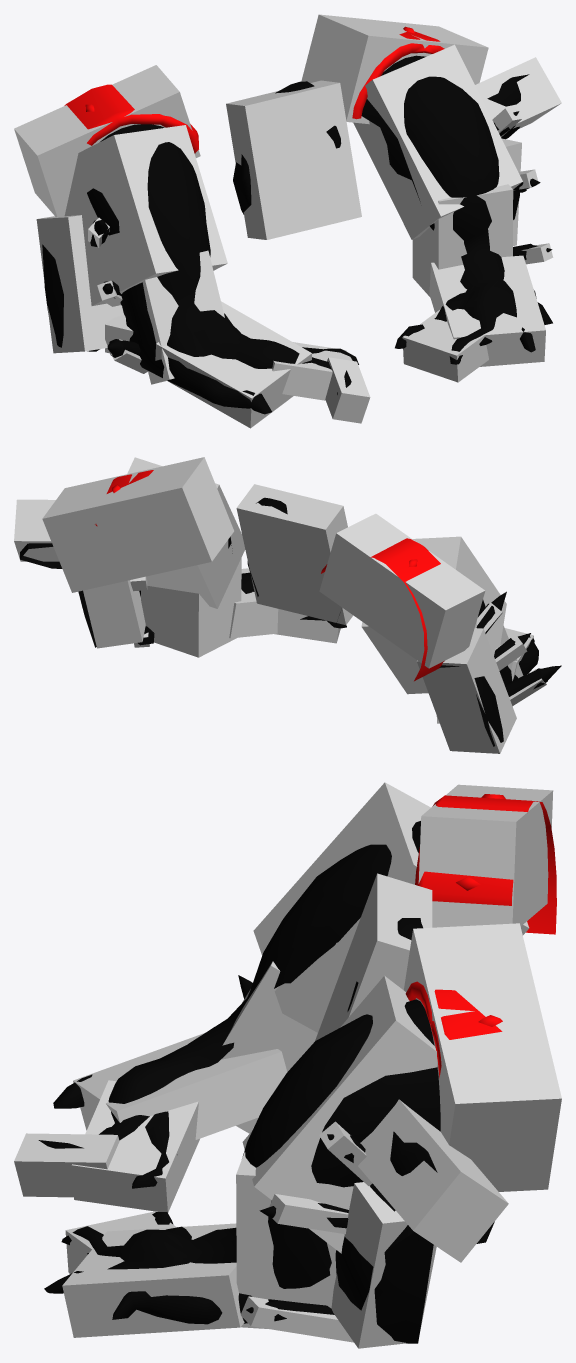
File: MSH_Guts_BossBase_01.fbx
3 views of the same model, one above another, from view 1: azimuth 30°, elevation 25°; view 2: azimuth 150°, elevation 25°; view 3: azimuth 270°, elevation 25° (orthographic). The views are drawn at different scales.
Visible parts, largest first — view 1: MSH_Guts_BossBase_01, COL_Guts_BossBase_09, COL_Guts_BossBase_13, COL_Guts_BossBase_03, COL_Guts_BossBase_20, COL_Guts_BossBase_19, COL_Guts_BossBase_01, COL_Guts_BossBase_16, COL_Guts_BossBase_10, COL_Guts_BossBase_02, COL_Guts_BossBase_18, COL_Guts_BossBase_11 (+5 smaller); view 2: COL_Guts_BossBase_19, COL_Guts_BossBase_20, COL_Guts_BossBase_09, MSH_Guts_BossBase_01, COL_Guts_BossBase_16, COL_Guts_BossBase_02, COL_Guts_BossBase_13, COL_Guts_BossBase_03, COL_Guts_BossBase_04, COL_Guts_BossBase_05, COL_Guts_BossBase_01, COL_Guts_BossBase_18 (+2 smaller); view 3: MSH_Guts_BossBase_01, COL_Guts_BossBase_19, COL_Guts_BossBase_20, COL_Guts_BossBase_05, COL_Guts_BossBase_03, COL_Guts_BossBase_01, COL_Guts_BossBase_13, COL_Guts_BossBase_10, COL_Guts_BossBase_17, COL_Guts_BossBase_09, COL_Guts_BossBase_04, COL_Guts_BossBase_02 (+6 smaller).
Part boxes in pixels (<box>): MSH_Guts_BossBase_01: <box>42,26,552,414</box>; COL_Guts_BossBase_09: <box>226,80,361,239</box>; COL_Guts_BossBase_13: <box>64,125,227,305</box>; COL_Guts_BossBase_03: <box>353,44,522,239</box>; COL_Guts_BossBase_20: <box>14,65,200,217</box>; COL_Guts_BossBase_19: <box>301,14,488,124</box>; COL_Guts_BossBase_01: <box>429,255,545,366</box>; COL_Guts_BossBase_16: <box>36,215,123,353</box>; COL_Guts_BossBase_10: <box>155,301,311,428</box>; COL_Guts_BossBase_02: <box>412,184,513,297</box>; COL_Guts_BossBase_18: <box>402,309,488,382</box>; COL_Guts_BossBase_11: <box>142,250,224,384</box>; COL_Guts_BossBase_19: <box>42,457,233,592</box>; COL_Guts_BossBase_20: <box>319,513,485,668</box>; COL_Guts_BossBase_09: <box>236,484,353,625</box>; MSH_Guts_BossBase_01: <box>20,470,561,746</box>; COL_Guts_BossBase_16: <box>416,628,516,753</box>; COL_Guts_BossBase_02: <box>141,558,241,657</box>; COL_Guts_BossBase_13: <box>361,536,506,694</box>; COL_Guts_BossBase_03: <box>127,457,245,608</box>; COL_Guts_BossBase_04: <box>83,580,145,648</box>; COL_Guts_BossBase_05: <box>14,499,59,561</box>; COL_Guts_BossBase_01: <box>229,568,278,638</box>; COL_Guts_BossBase_18: <box>274,609,340,643</box>; MSH_Guts_BossBase_01: <box>38,794,556,1343</box>; COL_Guts_BossBase_19: <box>404,923,561,1191</box>; COL_Guts_BossBase_20: <box>418,784,553,927</box>; COL_Guts_BossBase_05: <box>358,1099,508,1262</box>; COL_Guts_BossBase_03: <box>242,976,437,1253</box>; COL_Guts_BossBase_01: <box>62,1223,244,1337</box>; COL_Guts_BossBase_13: <box>253,782,529,1032</box>; COL_Guts_BossBase_10: <box>73,1033,287,1139</box>; COL_Guts_BossBase_17: <box>71,1080,199,1212</box>; COL_Guts_BossBase_09: <box>315,873,432,1040</box>; COL_Guts_BossBase_04: <box>331,1182,436,1348</box>; COL_Guts_BossBase_02: <box>236,1152,336,1328</box>.
Size of the model in its own units: 14.61 by 6.91 by 9.32.
